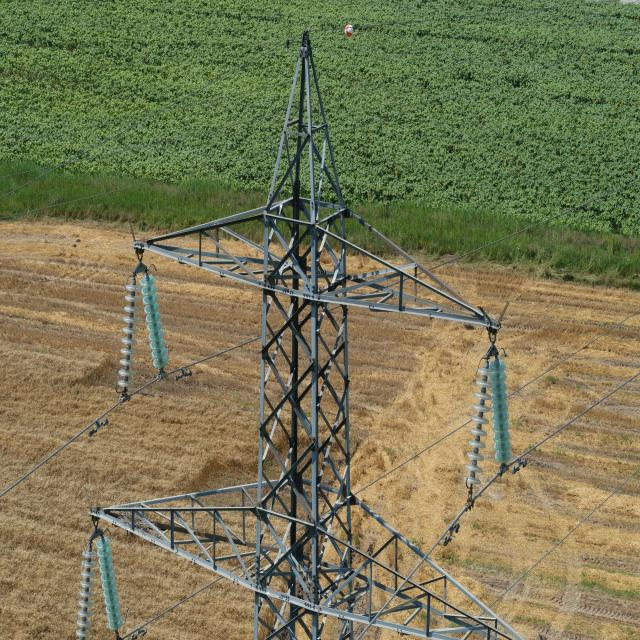direk: (136, 45, 489, 638)
